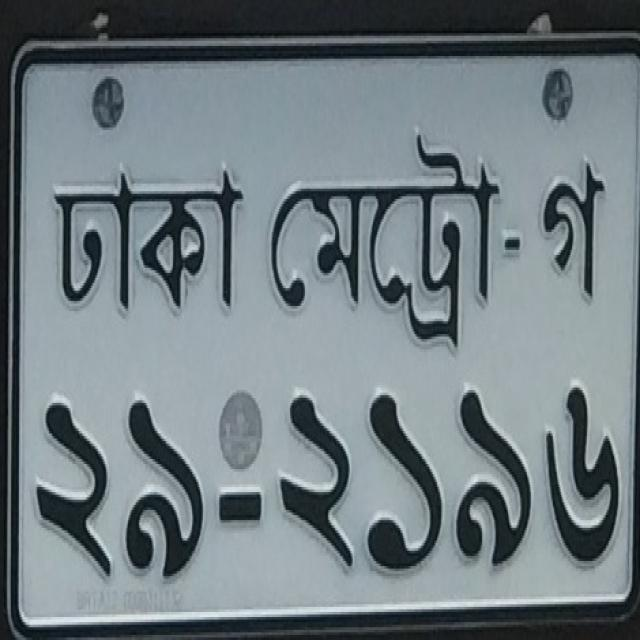cng: (268, 131, 501, 349), (91, 76, 125, 129)
numberplate: (3, 24, 637, 634)
